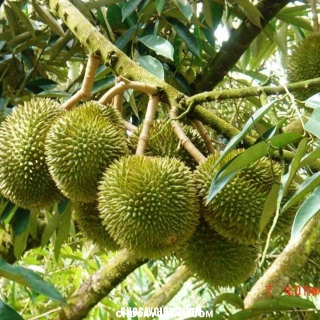sau_rieng: (96, 148, 202, 261), (43, 96, 138, 207)
